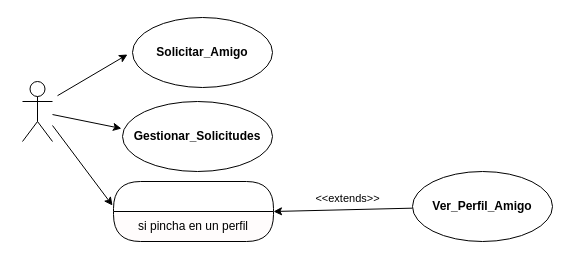
Some shapes in this 570 by 259 pixel diagram are drawn without their labels. Each missing label, with the box of its shape:
Usuario: (22, 80, 52, 142)
Ver_Lista_Amigos: (112, 180, 274, 242)
